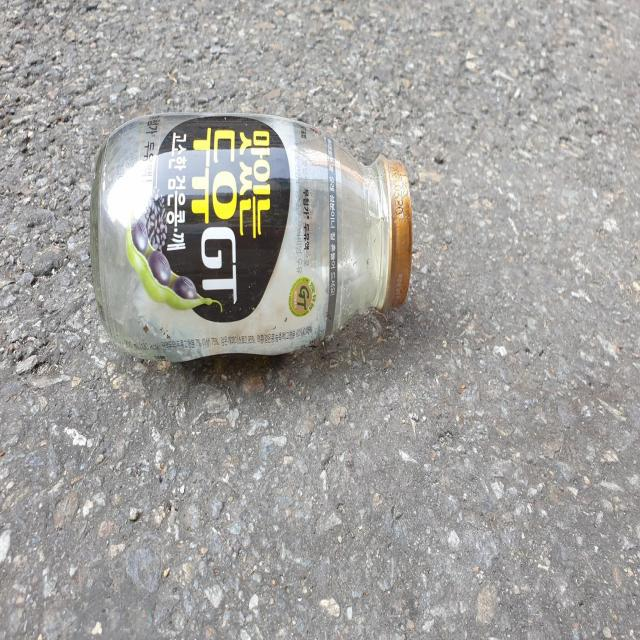glass: (90, 113, 412, 361)
